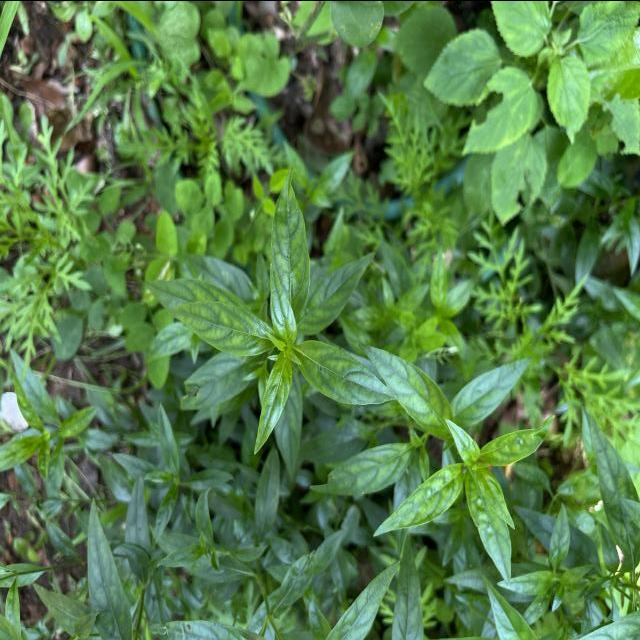Andrographis paniculata: (357, 338, 455, 434), (291, 338, 401, 407), (297, 246, 378, 336), (268, 163, 311, 326), (371, 462, 464, 537), (166, 300, 274, 358), (308, 440, 417, 496), (454, 352, 534, 425), (464, 469, 512, 582), (477, 412, 556, 469), (253, 354, 294, 456), (472, 465, 516, 529)
